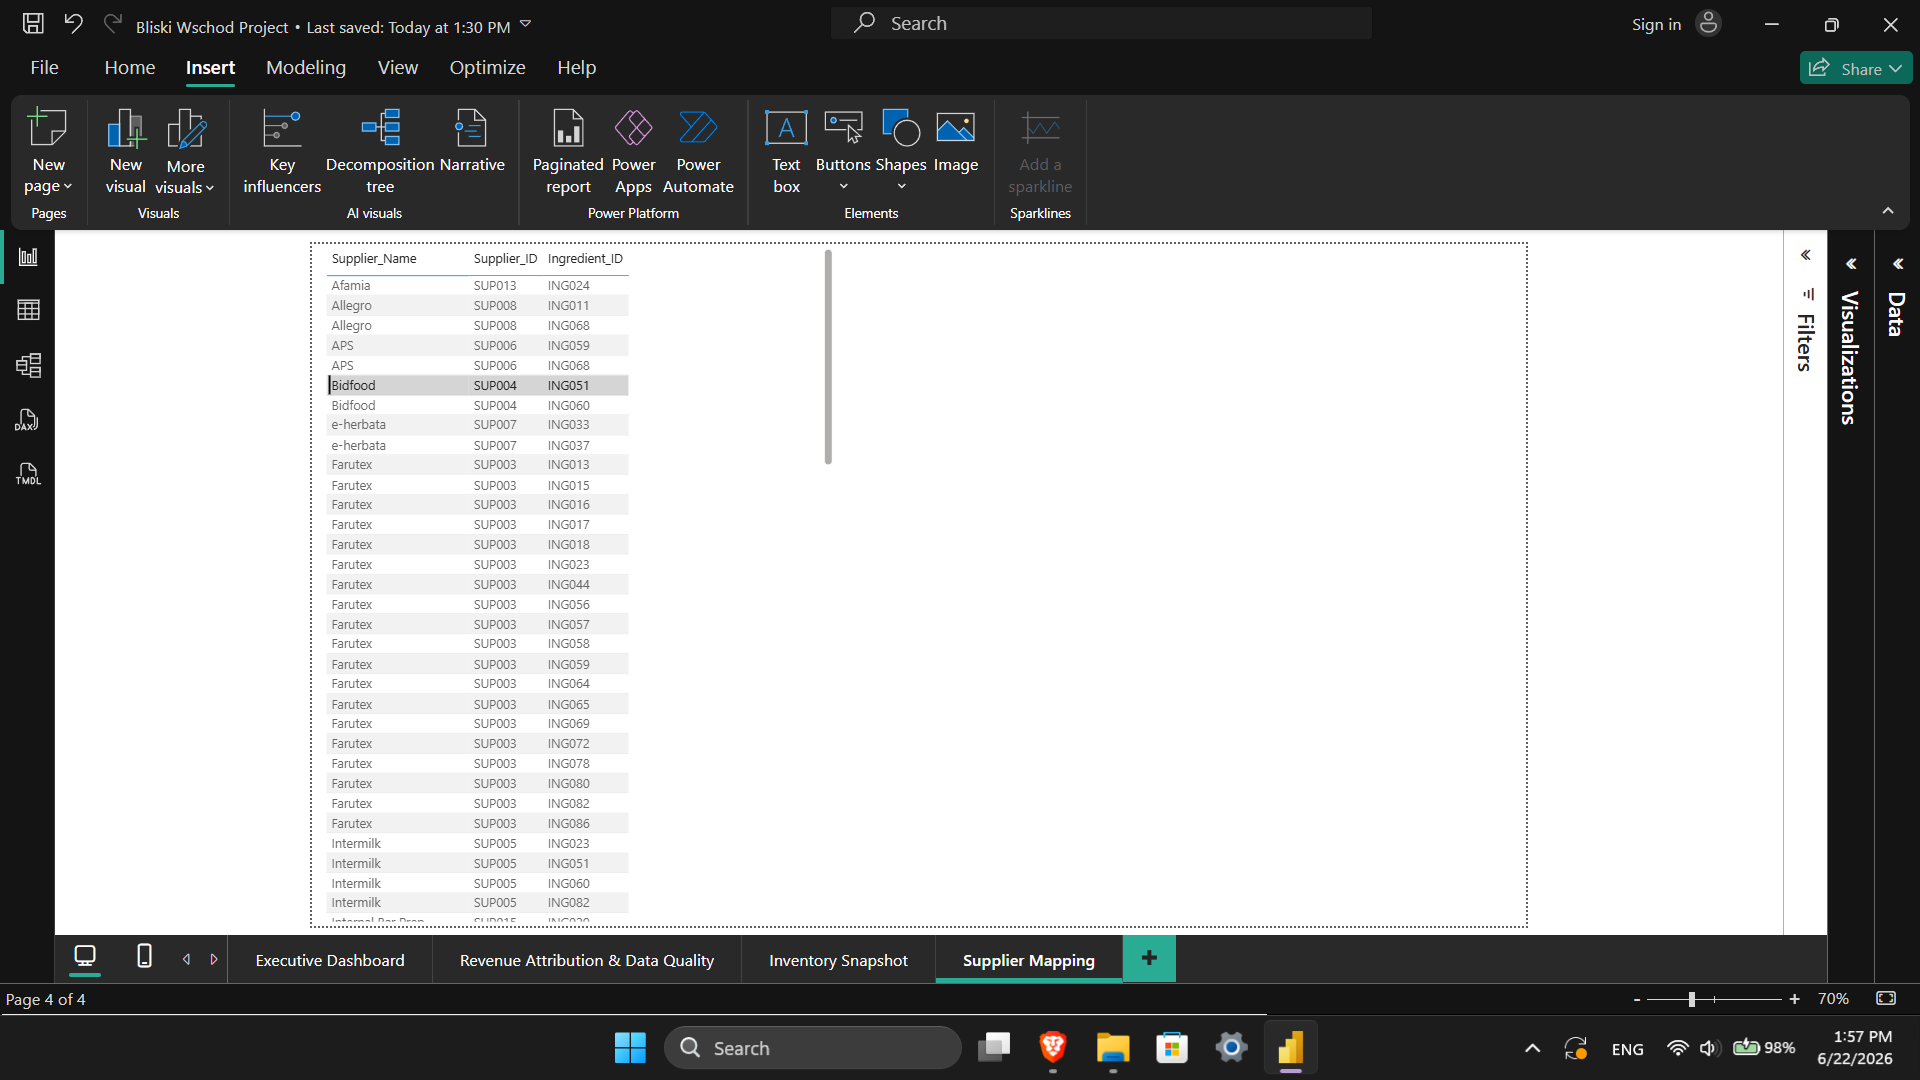

The dashboard page shown, as its layout file describes it:
{"tool":"powerbi","page":{"name":" Supplier Mapping","canvas":[1280,720],"ordinal":3},"visuals":[{"type":"tableEx","fields":{"Values":["15_Bridge_IngredientSupplier_V9.Supplier_Name","15_Bridge_IngredientSupplier_V9.Supplier_ID","15_Bridge_IngredientSupplier_V9.Ingredient_ID"]},"box":[10,0,544.3,720],"z":0}]}

Visuals, with their boxes on the page's 1280x720 design canvas (x1, y1, x2, y2). These are canvas units, not pixel positions in the 1920x1080 screenshot, which may show the page scaled, cropped or inside an application window:
tableEx - 15_Bridge_IngredientSupplier_V9.Supplier_Name x 15_Bridge_IngredientSupplier_V9.Supplier_ID: left=10, top=0, right=554, bottom=720
